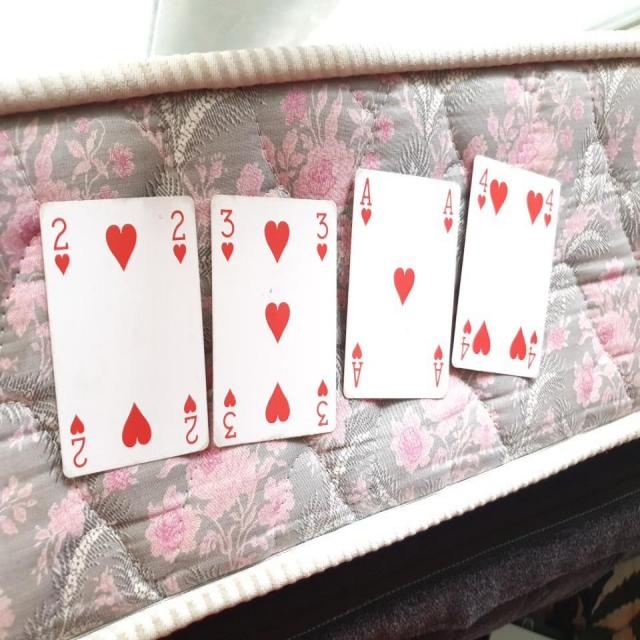2 Hearts: (37, 189, 212, 471)
3 Hearts: (202, 185, 337, 452)
4 Hearts: (449, 150, 564, 392)
A Hearts: (340, 160, 466, 428)
